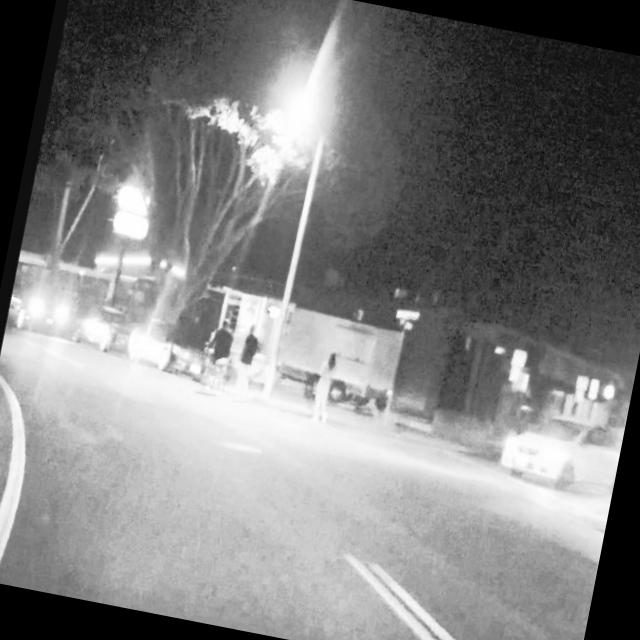Truck: (273, 306, 407, 412)
